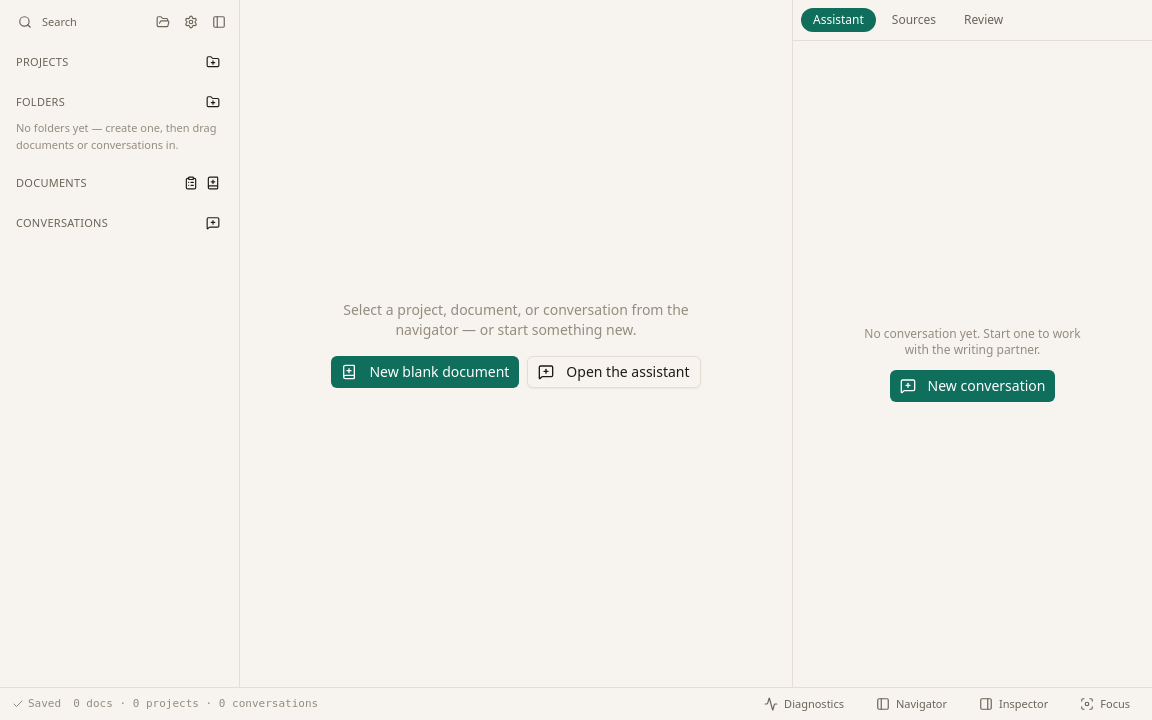
Test case: conversation navigation (B02) › a failed conversation creation is reported instead of a dead click
The width and height of the screenshot is (1152, 720).
Click the button named "New conversation" at [213, 223], box [203,213,223,233]
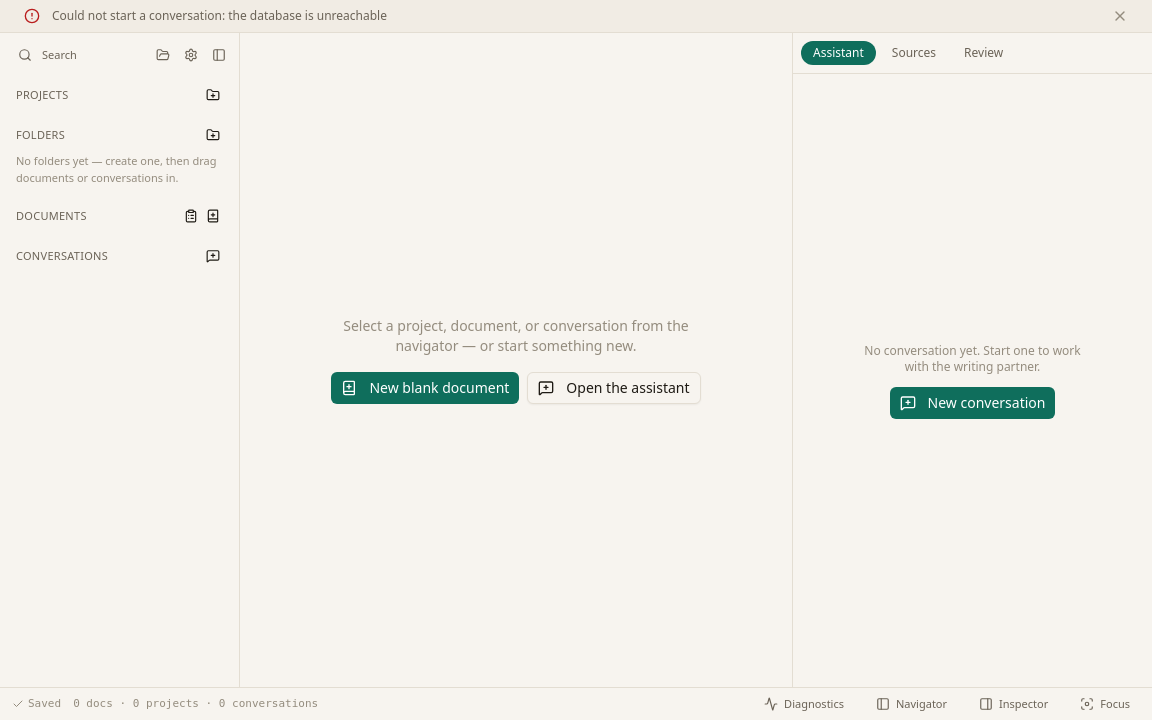
Now the message shows "the database is unreachable", box [52,7,387,24]
